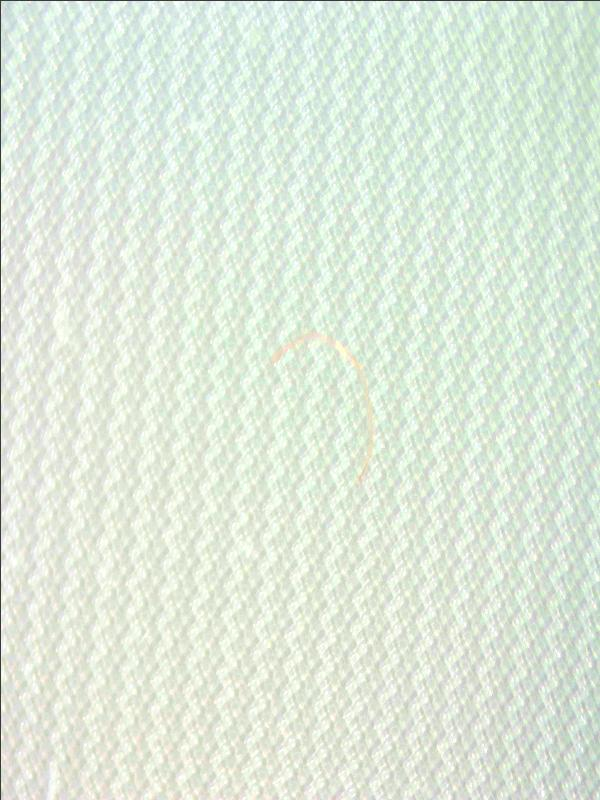microplastic: (2, 2, 599, 799), (270, 328, 373, 486)
